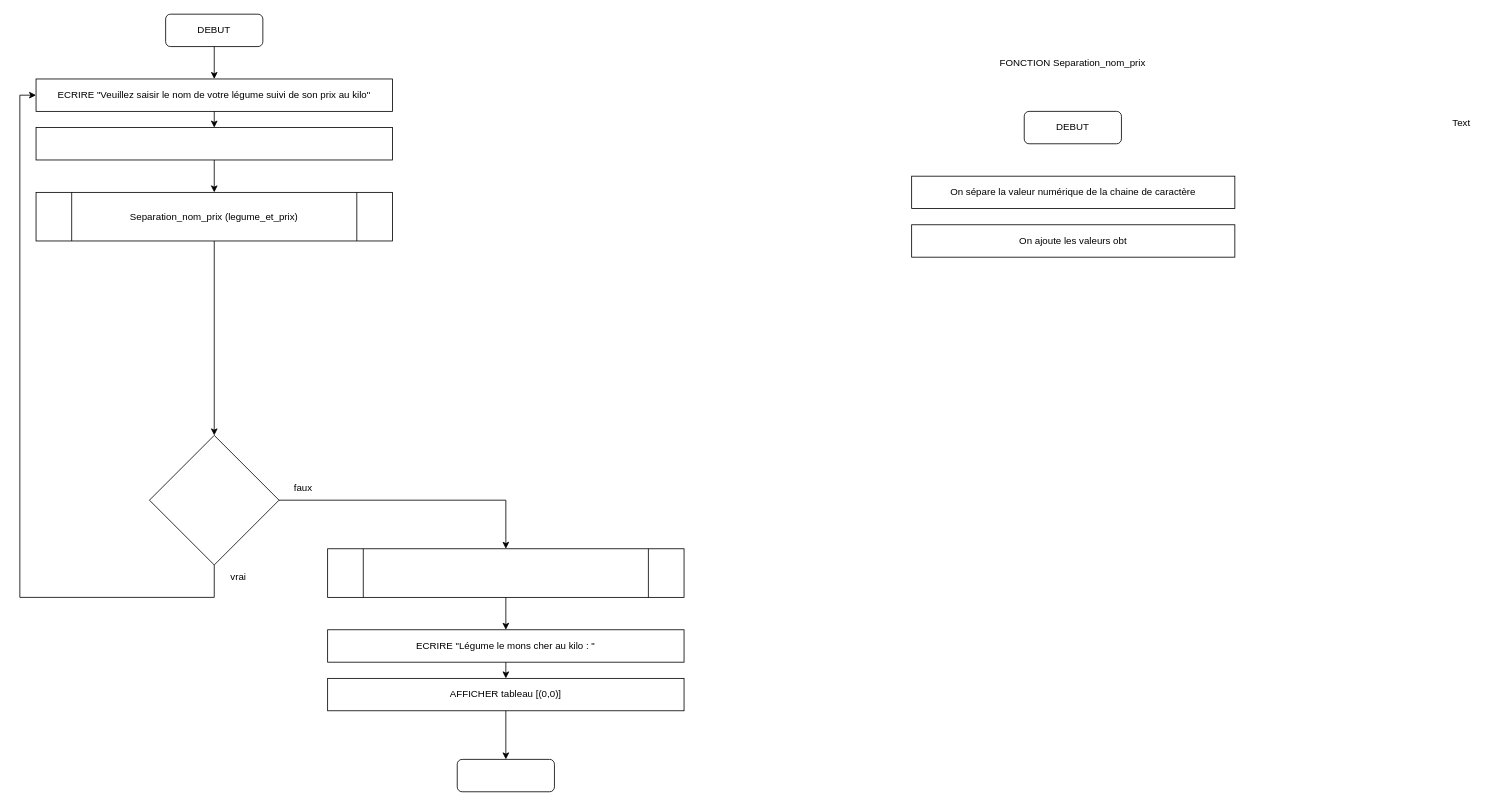
Image size: 1500x806. Some labels were removed from this diagram. The shapes that lost their labels are listed below. From the top down, each one's centre as x and y in pixels, then its label:
pixel 213 143: LIRE legume_et_prix
pixel 214 500: legume_prix != "go"
pixel 505 572: Ordonner_tableau
pixel 505 775: FIN
